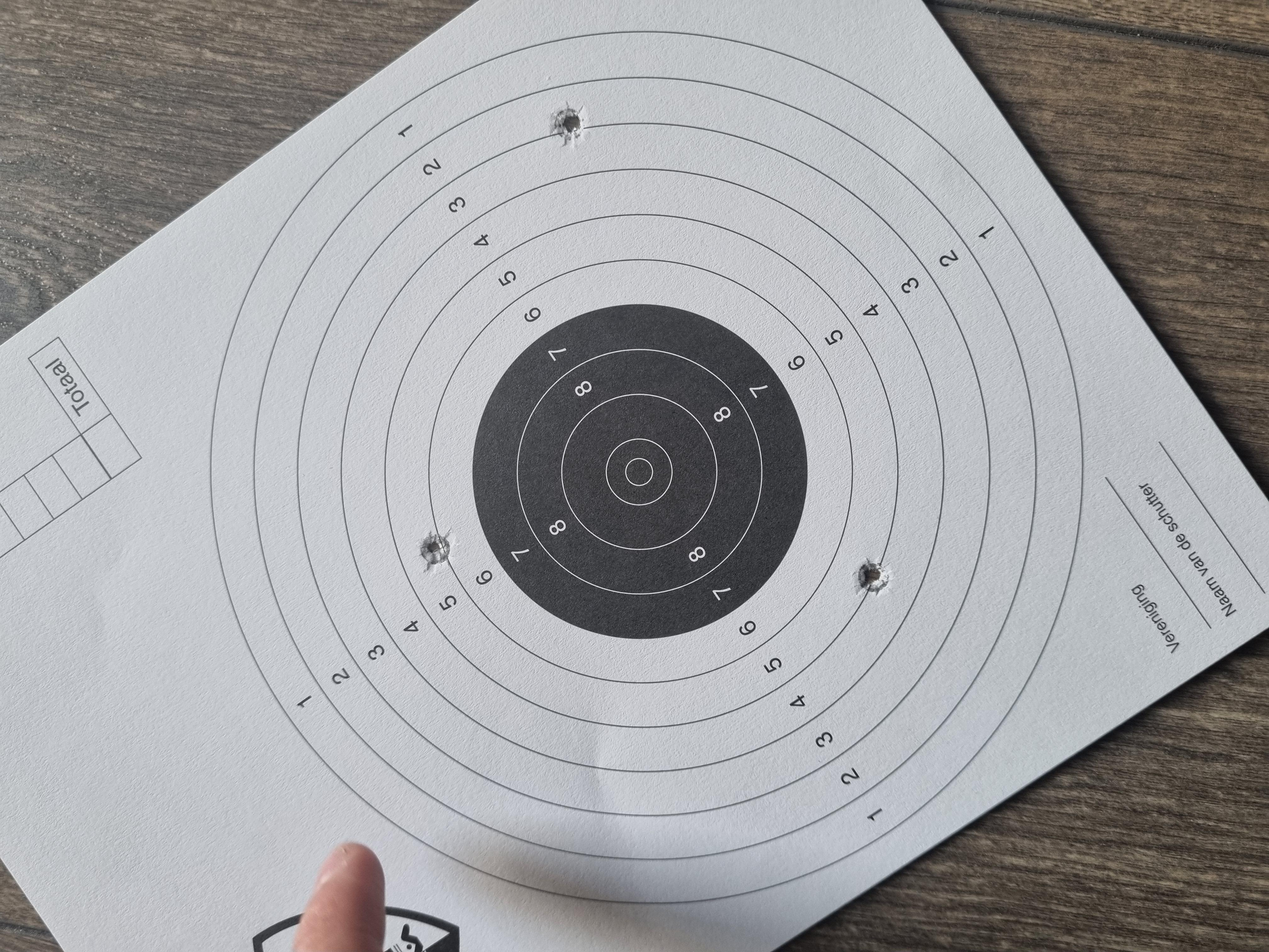hole: (1073, 414, 1136, 439), (505, 315, 565, 339), (477, 643, 521, 667)
